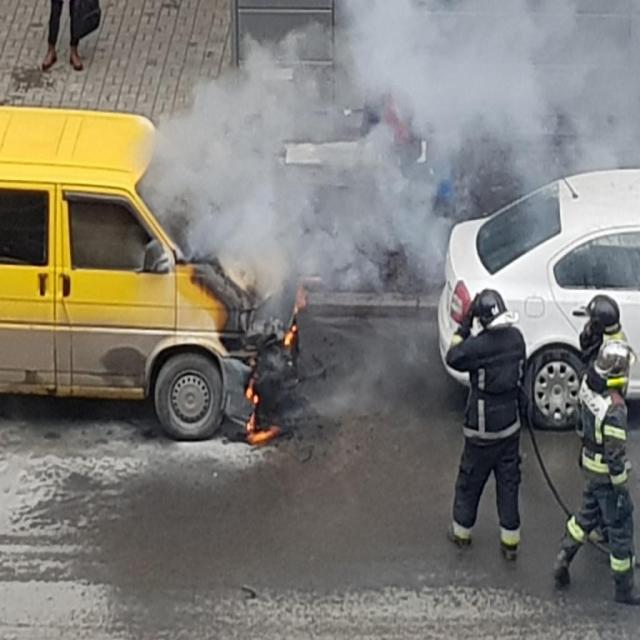Fire: (244, 374, 282, 442)
Smoke: (147, 0, 640, 317)
